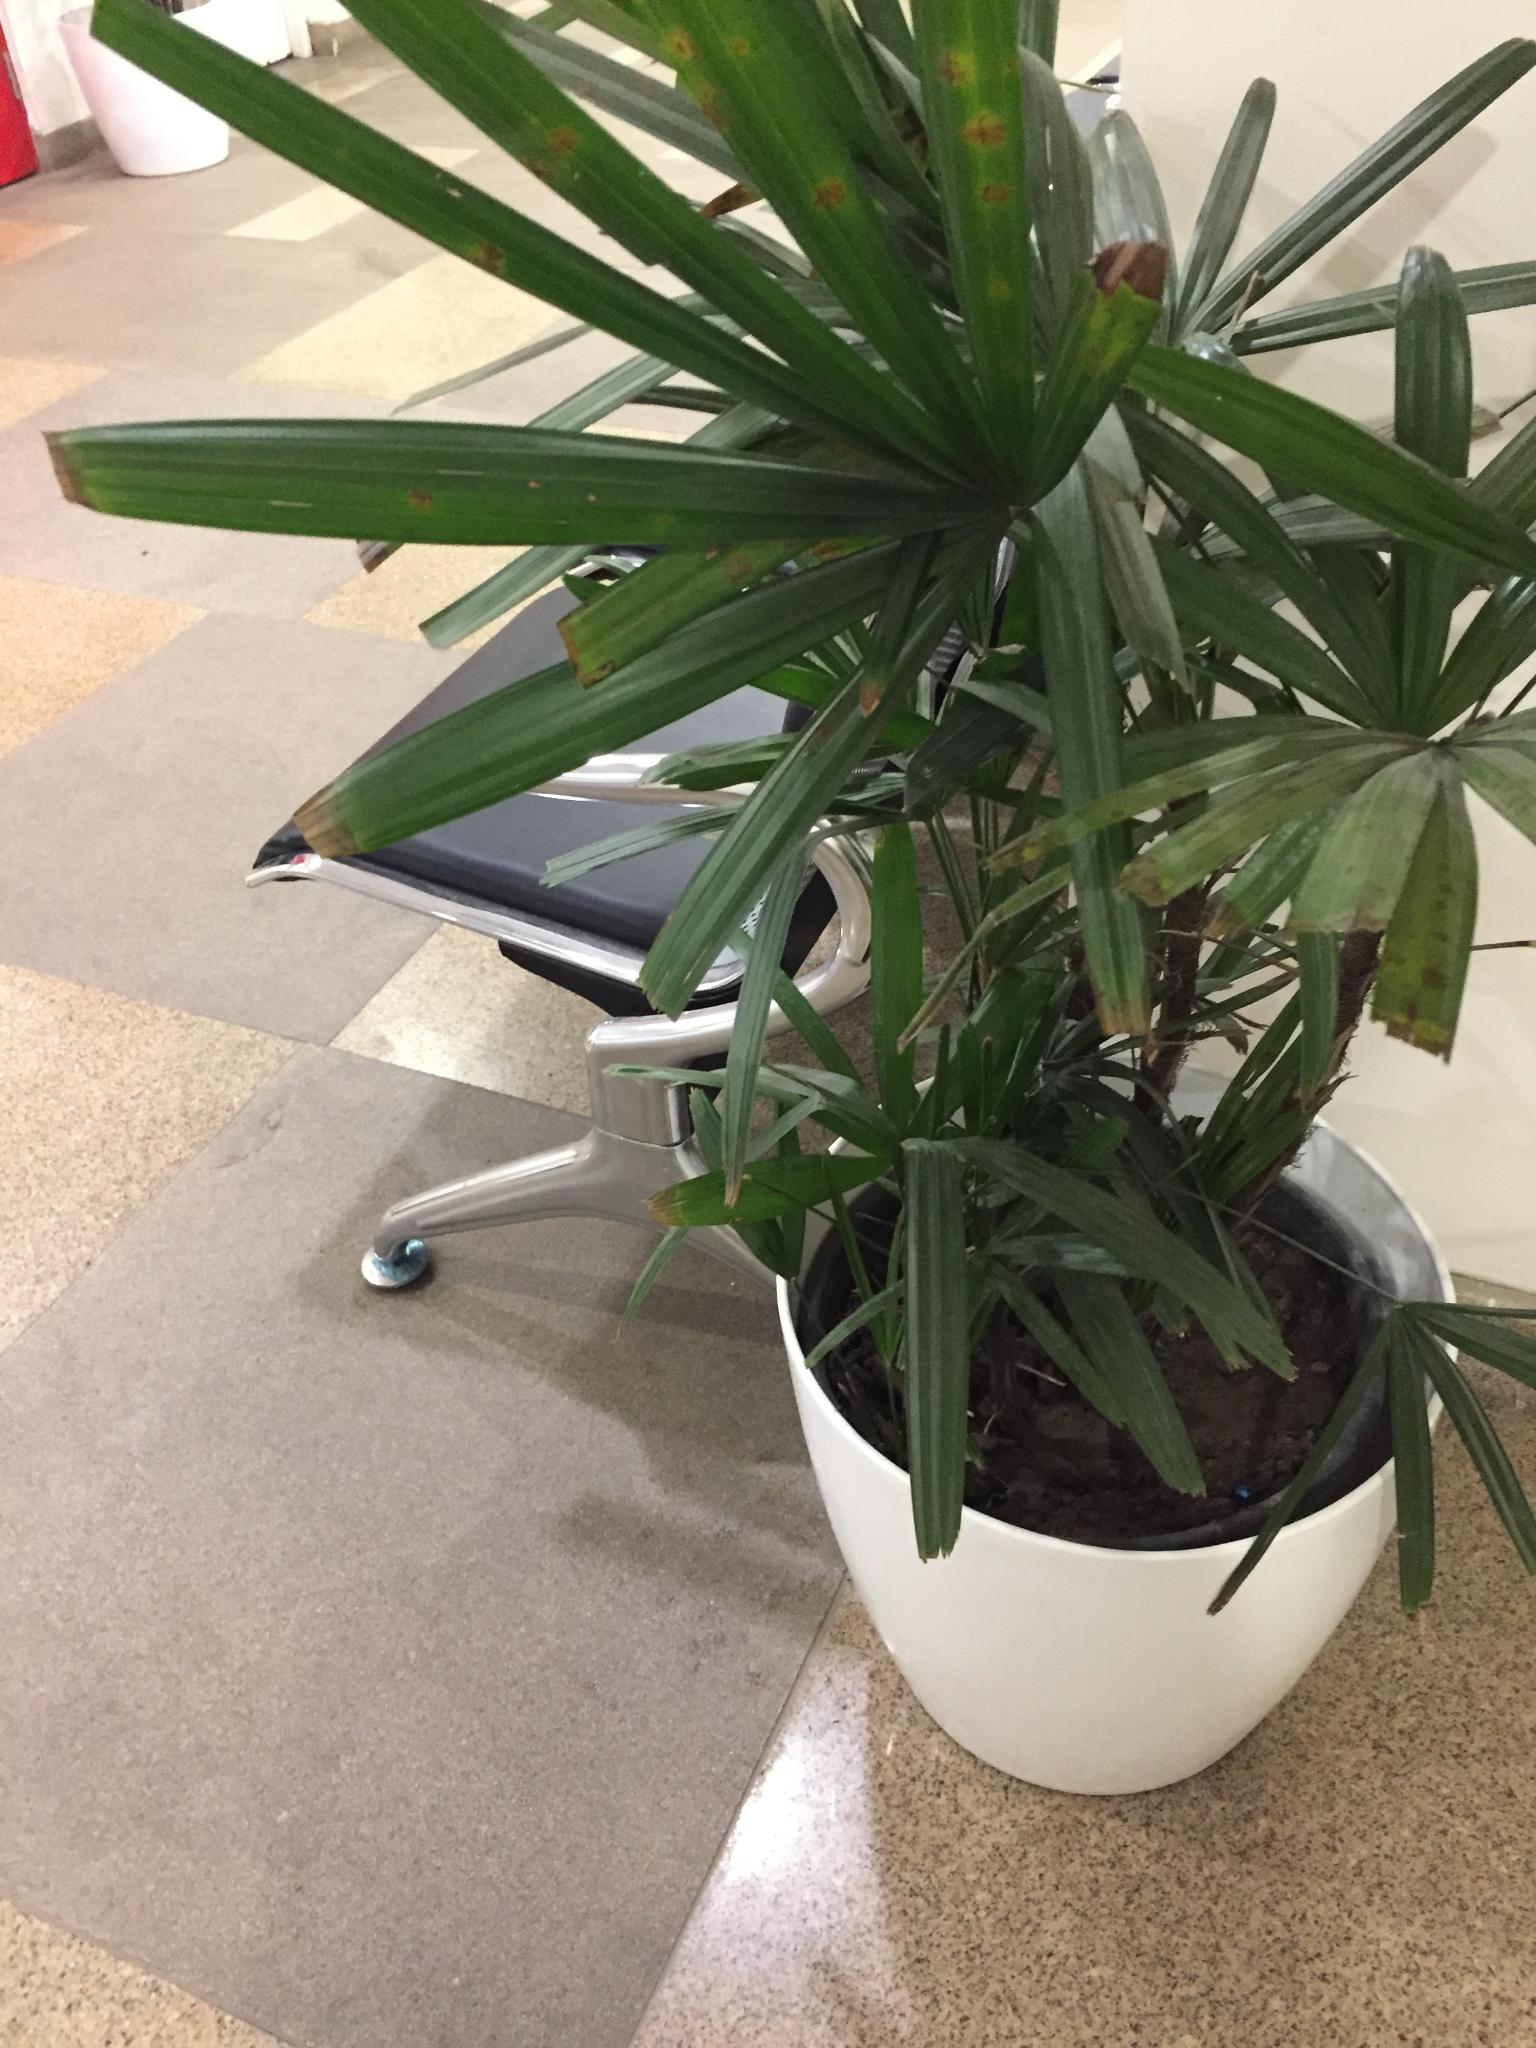chair: (218, 174, 1268, 1495)
